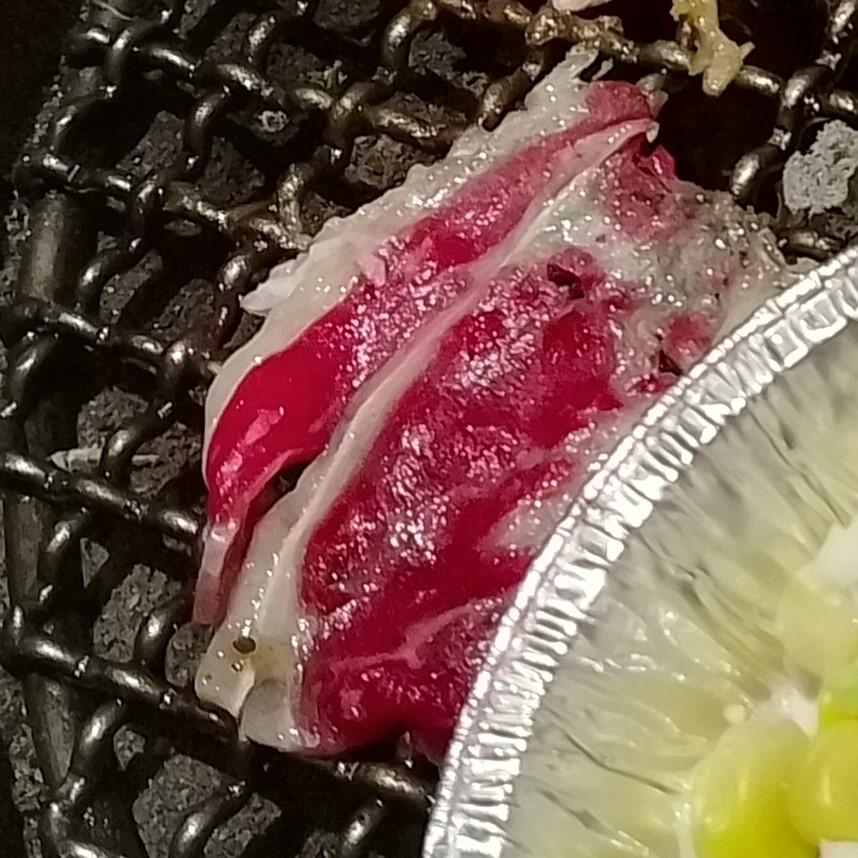Undercooked: (193, 48, 783, 760)
